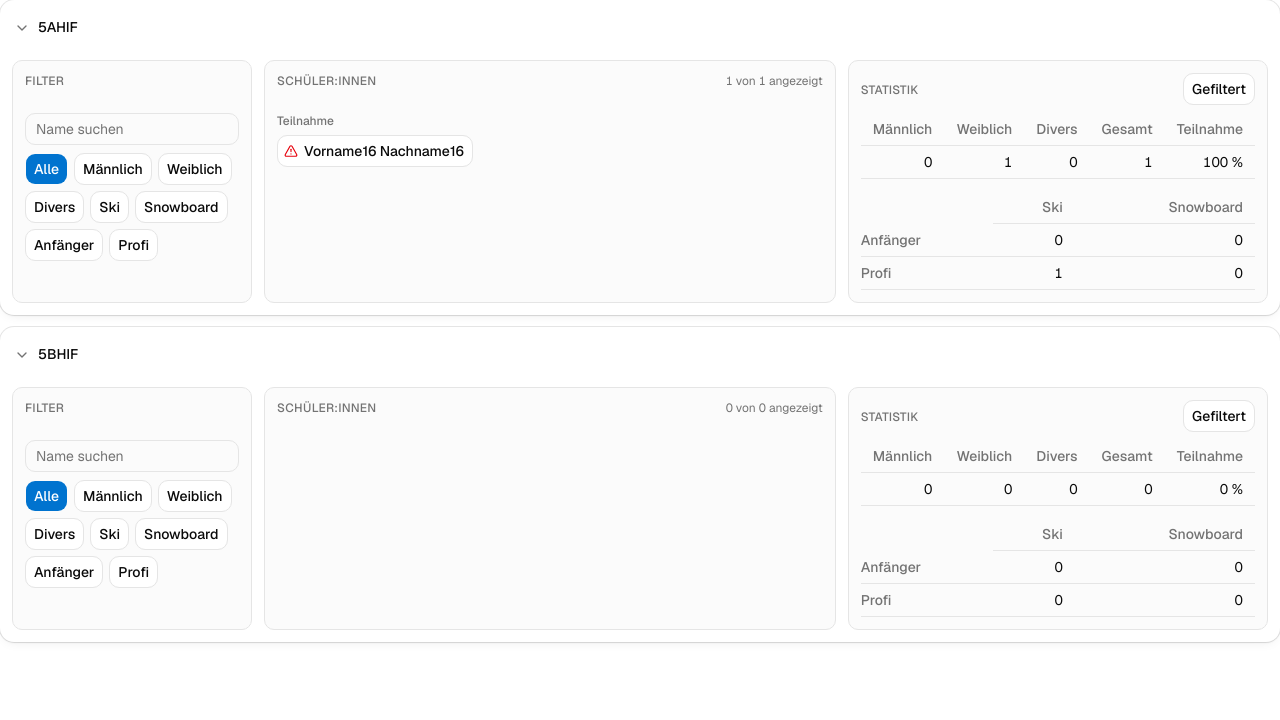
Test: ClassCards — the students › says on hover what the mark means
Hover over the picture named "Registrierung unvollständig".
mouse_move(291, 151)  # box [284,144,298,158]
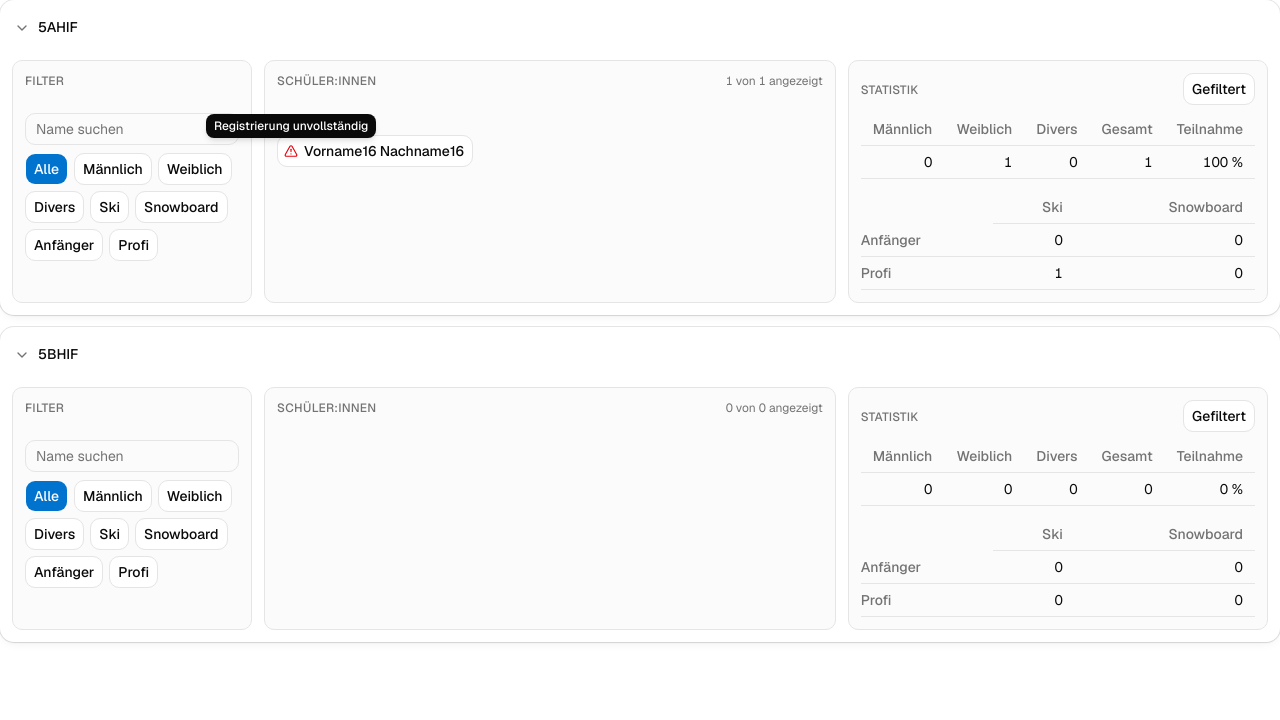
Expected: the text "Registrierung unvollständig" is shown, [206,114,376,138]
